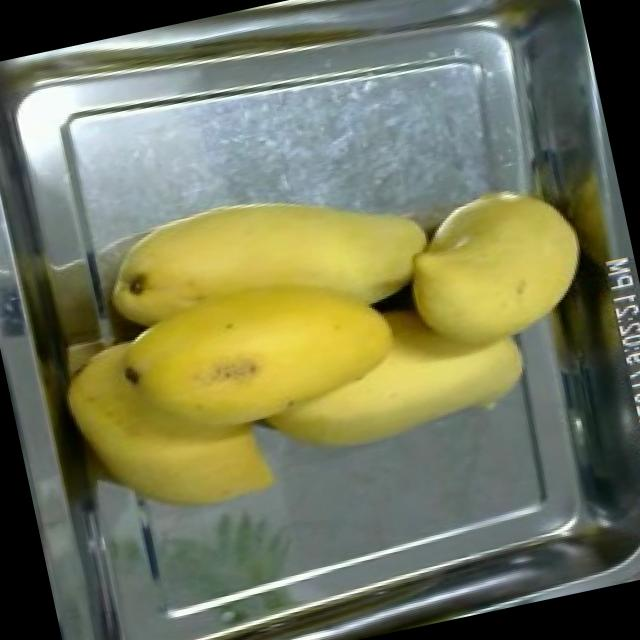fruit: (74, 150, 478, 505), (376, 161, 604, 370)
